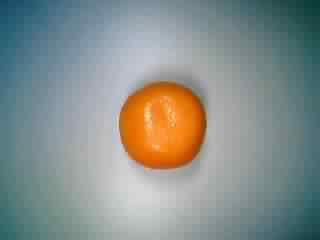orange: (111, 78, 212, 175)
